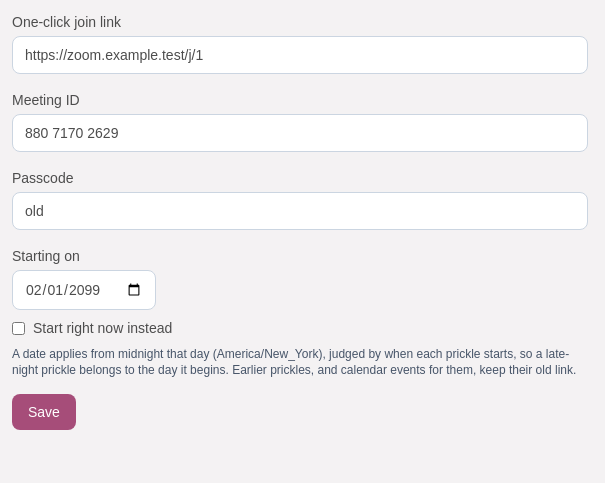
Test case: PrickleJoinForm › shows why a save failed
Click the button "Save" at (44, 412), box [12, 394, 76, 430]
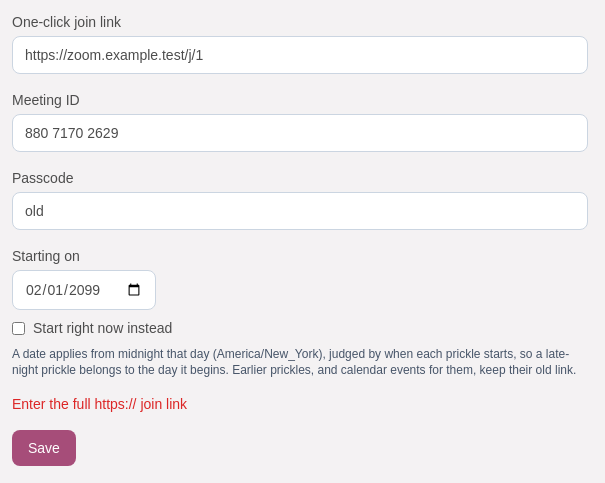
Expected: the text "Enter the full https:// join link" is shown, [12, 396, 187, 412]
